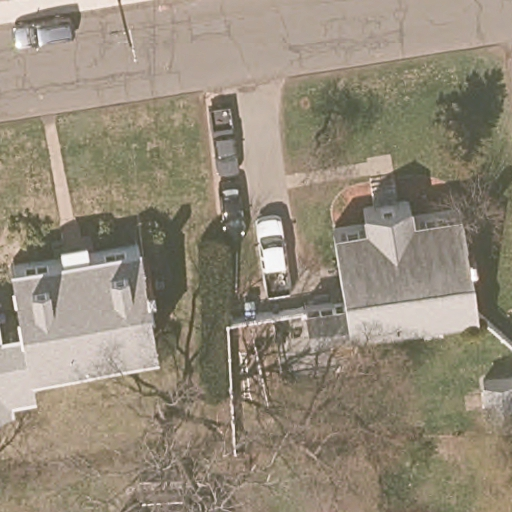DT: (115, 1, 140, 64)
